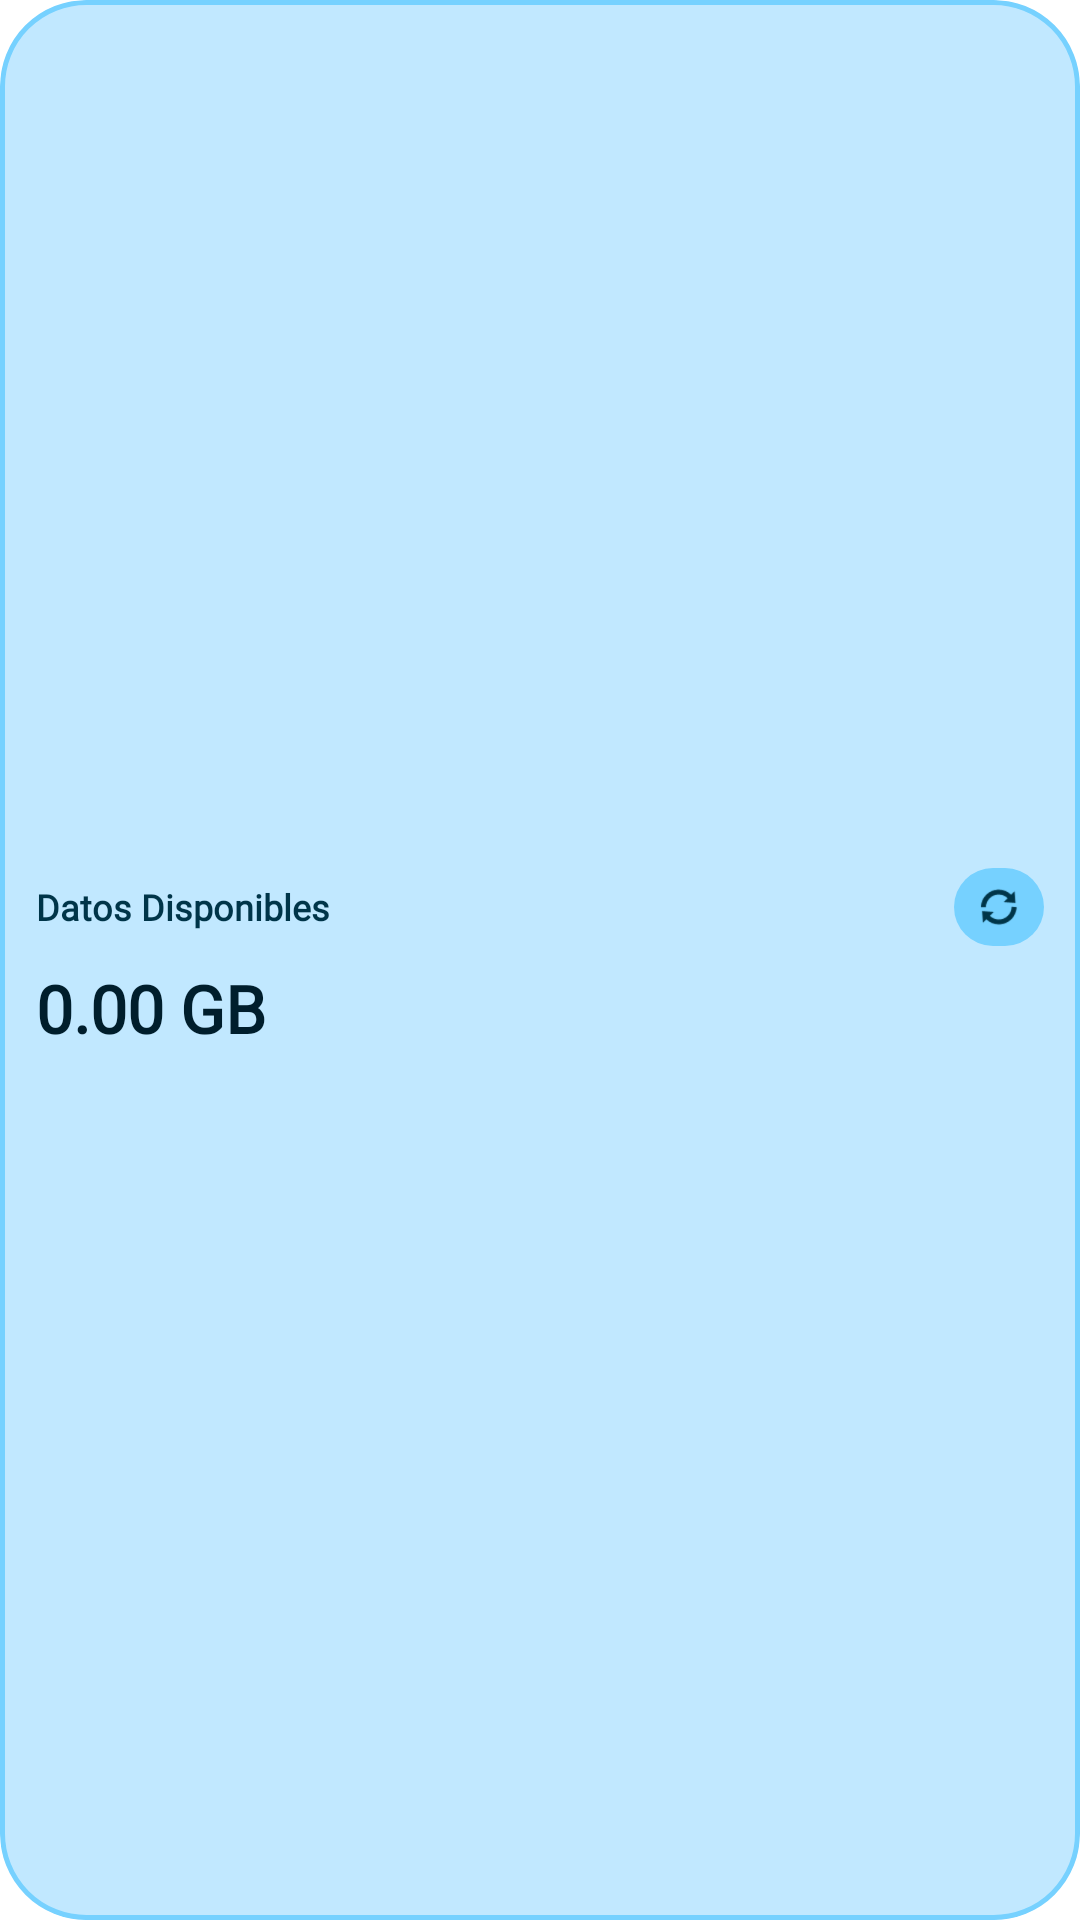

Icons on this 1080w x 1920h Android screen, each with the point to tap as [x,y]:
Actualizar: [999,907]
